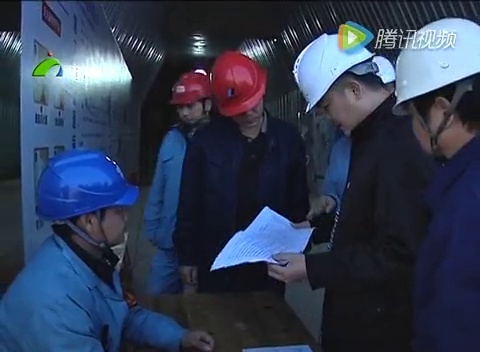blue: (34, 145, 137, 252)
red: (209, 47, 267, 124), (169, 69, 212, 125)
white: (394, 17, 480, 156), (293, 32, 380, 131)
